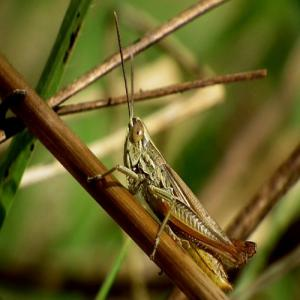locust: (117, 47, 257, 266)
